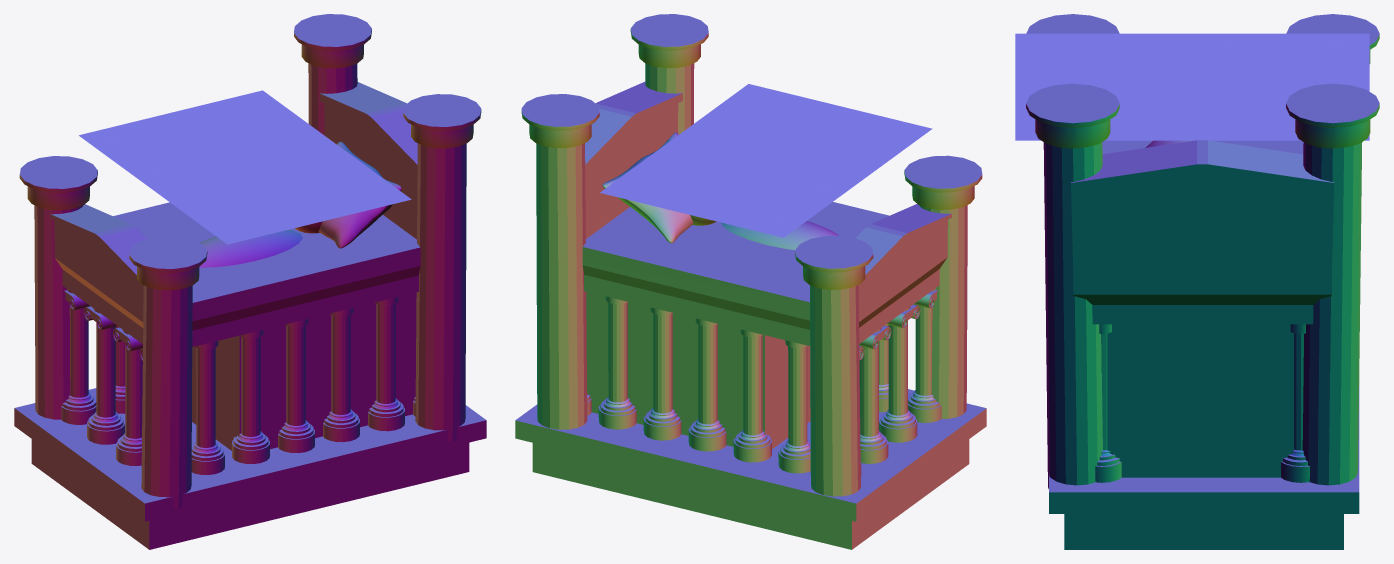
The model's file is bedMainVertexColors.fbx.
3 renders of one model, left to right at view 1: azimuth 30°, elevation 25°; view 2: azimuth 150°, elevation 25°; view 3: azimuth 270°, elevation 25°, orthographic. The views are drawn at different scales.
Visible parts, largest first — view 1: pCube8; view 2: pCube8; view 3: pCube8.
Boxes of the visible parts, x1,y1,x2,y2 form: pCube8: (14,14,486,549); pCube8: (515,14,986,549); pCube8: (1015,14,1379,549).
Size of the model in its own units: 14.03 by 14.26 by 10.88.
